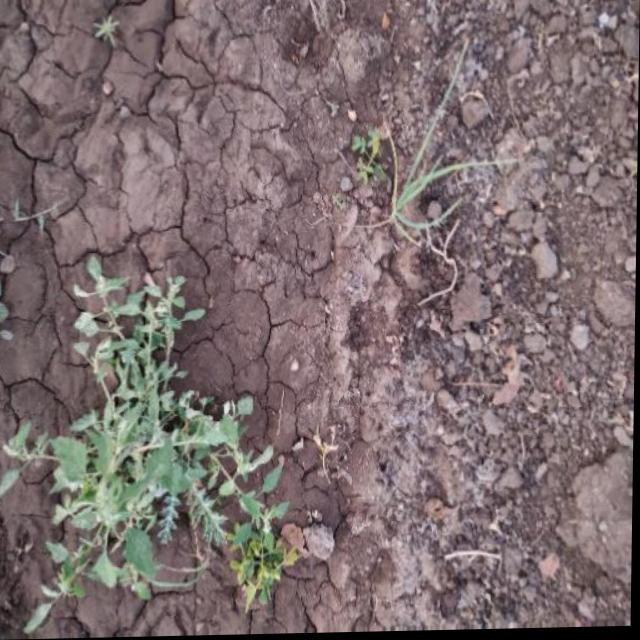weed: (13, 251, 306, 623)
